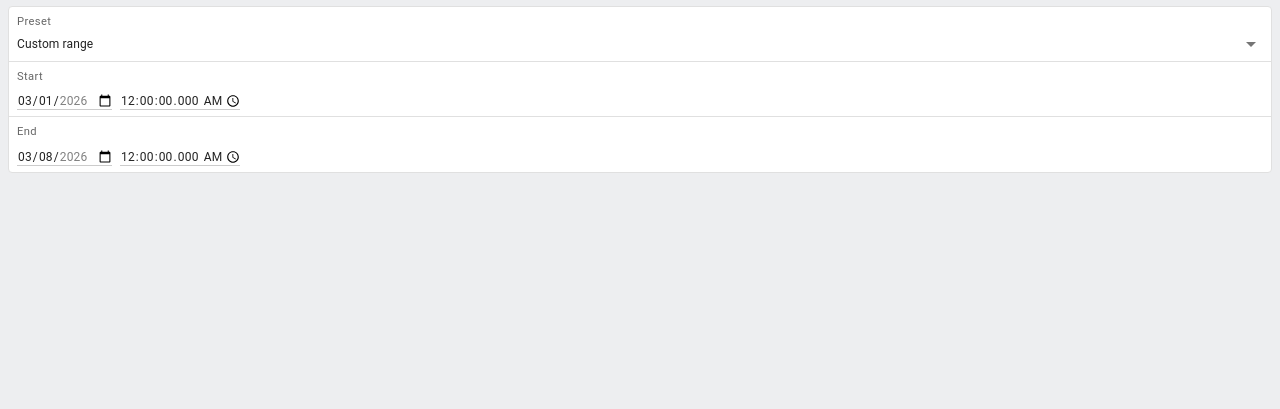
it: DateTimeRangeFilter preset reporting › reports the preset label alongside the resolved range
The width and height of the screenshot is (1280, 409).
Press the mouse on the dropdown at (55, 44), box [17, 37, 93, 51]
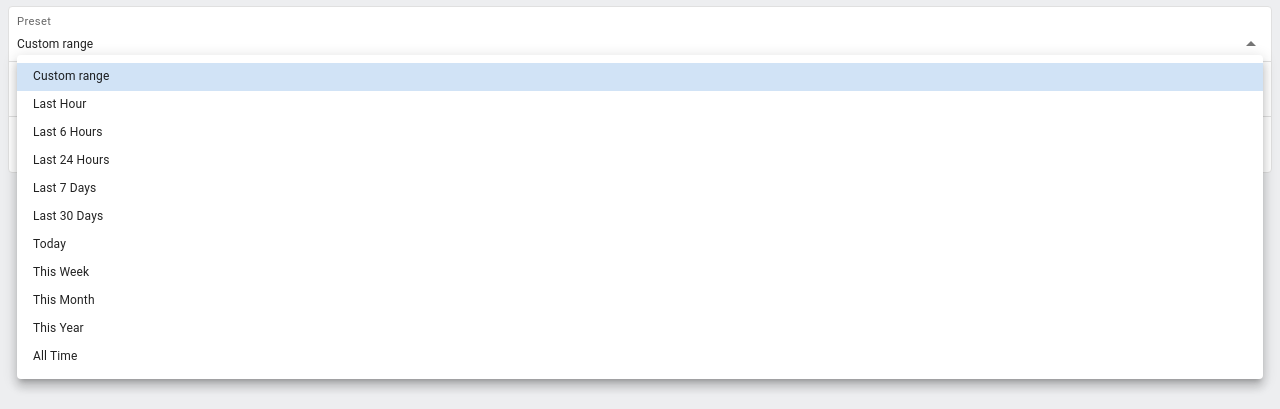
Click the option "Last 7 Days".
click(65, 188)  # box [33, 181, 96, 195]
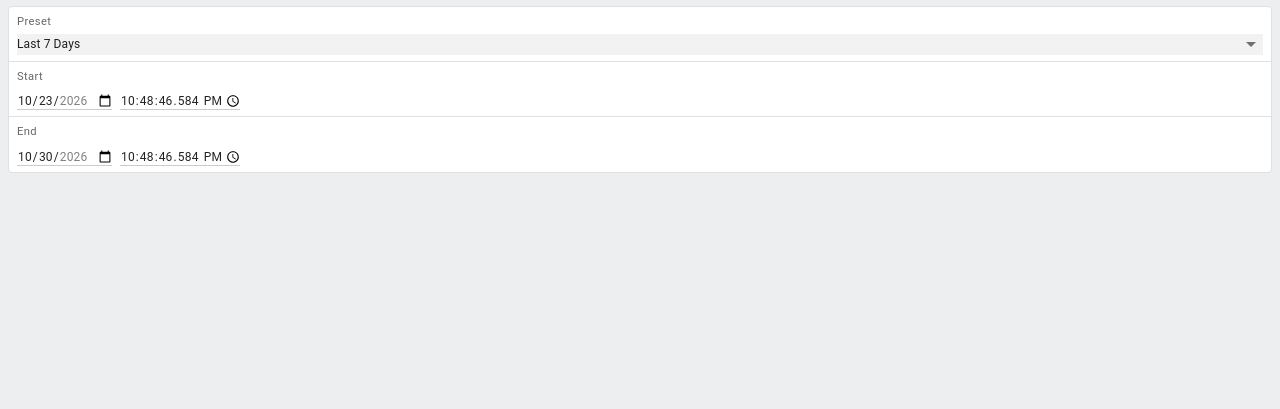
Check: the dropdown reads "Last 7 Days", box [17, 34, 1263, 55]
